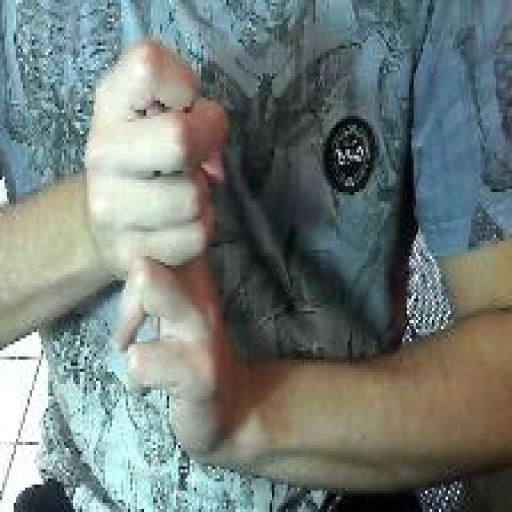Ne -rat-: (81, 35, 234, 462)
